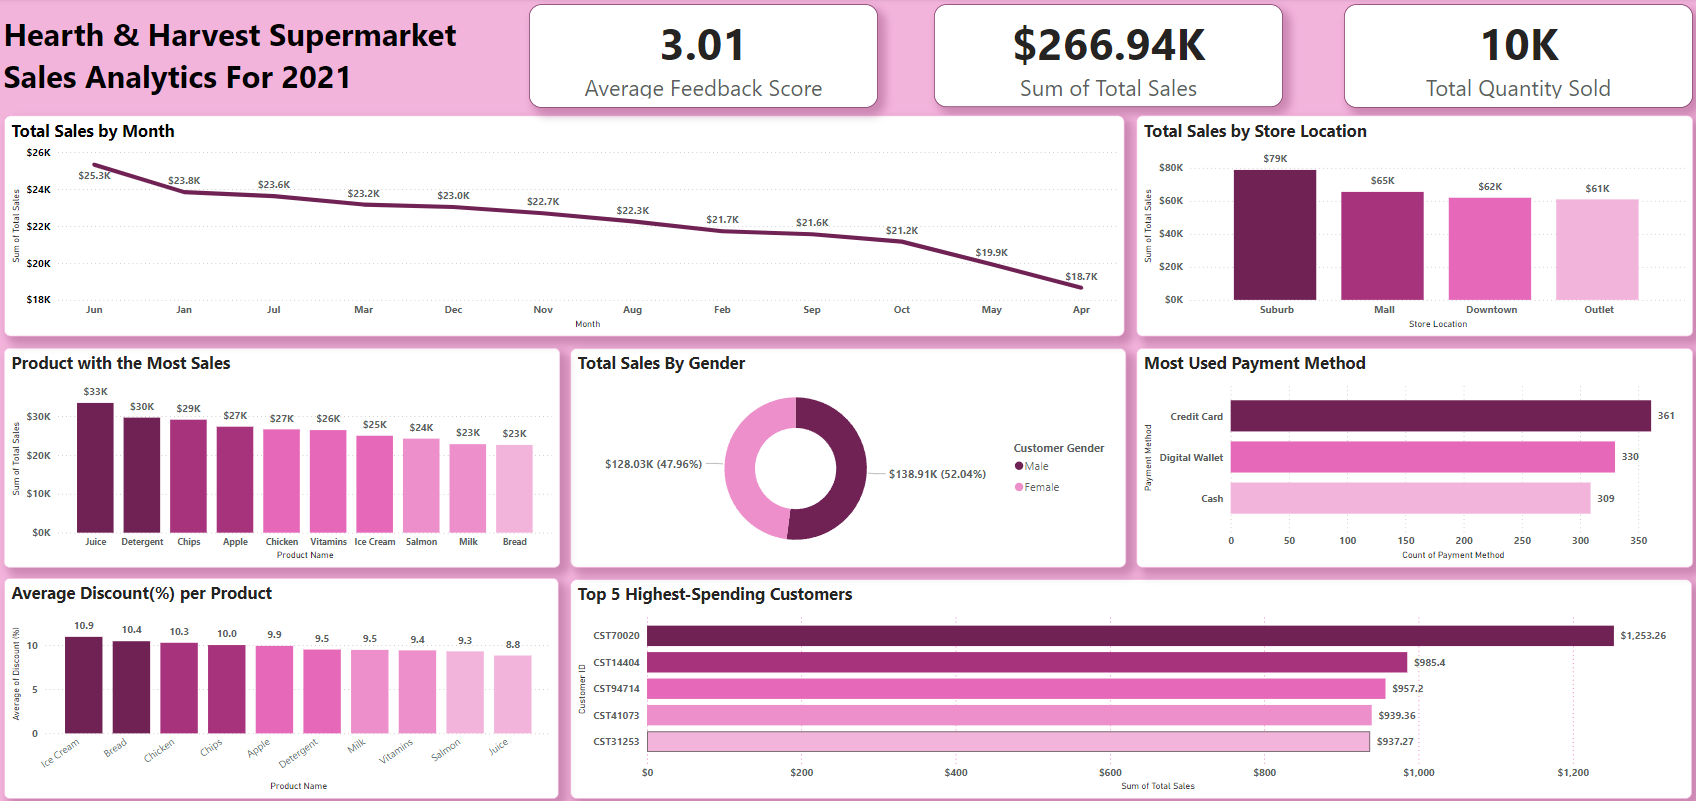

The dashboard page shown, as its layout file describes it:
{"tool":"powerbi","page":{"name":"Page 1","canvas":[2050,975],"ordinal":0},"visuals":[{"type":"card","fields":{"Values":["Sum(supermarket_sales_performance.Total Sales)"]},"box":[1127.6,7.5,420.6,123.6],"z":0},{"type":"clusteredBarChart","title":"Top 5 Highest-Spending Customers","fields":{"Category":["supermarket_sales_performance.Customer ID"],"Y":["Sum(supermarket_sales_performance.Total Sales)"]},"box":[688.9,700.4,1353.2,264.7],"z":1000},{"type":"donutChart","title":"Total Sales By Gender","fields":{"Category":["supermarket_sales_performance.Customer Gender"],"Y":["Sum(supermarket_sales_performance.Total Sales)"]},"box":[688.9,422.6,670,264.7],"z":2000},{"type":"columnChart","title":"Product with the Most Sales","fields":{"Category":["supermarket_sales_performance.Product Name"],"Y":["Sum(supermarket_sales_performance.Total Sales)"]},"box":[6.6,422.6,670,264.7],"z":3000},{"type":"lineChart","title":" Total Sales by Month","fields":{"Category":["supermarket_sales_performance.Month"],"Y":["Sum(supermarket_sales_performance.Total Sales)"]},"box":[6.6,141.4,1351.5,266.4],"z":4000},{"type":"card","fields":{"Values":["Sum(supermarket_sales_performance.Quantity Sold)"]},"box":[1622,7.5,420.6,125.1],"z":5000},{"type":"columnChart","title":"Total Sales by Store Location","fields":{"Category":["supermarket_sales_performance.Store Location"],"Y":["Sum(supermarket_sales_performance.Total Sales)"]},"box":[1371.3,141.4,670.8,266.4],"z":6000},{"type":"clusteredColumnChart","title":"Average Discount(%) per Product","fields":{"Y":["Avg(supermarket_sales_performance.Discount (%))"],"Category":["supermarket_sales_performance.Product Name"]},"box":[6.6,698.8,669.2,266.4],"z":7000},{"type":"clusteredBarChart","title":"Most Used Payment Method ","fields":{"Category":["supermarket_sales_performance.Payment Method"],"Y":["CountNonNull(supermarket_sales_performance.Payment Method)"]},"box":[1371.3,422.6,670.8,264.7],"z":8000},{"type":"card","fields":{"Values":["Avg(supermarket_sales_performance.Feedback Score)"]},"box":[639.1,7.5,420.6,125.1],"z":9000},{"type":"textbox","box":[0,13.6,586.4,119.1],"z":10000}]}

Visuals, with their boxes in screenshot pixels (x1, y1, x2, y2), scaled from the page's 2050x975 canvas onto the 1696x801 screenshot:
card - Sum(supermarket_sales_performance.Total Sales): box=[933, 6, 1281, 108]
"Top 5 Highest-Spending Customers" clusteredBarChart: box=[570, 575, 1689, 793]
"Total Sales By Gender" donutChart: box=[570, 347, 1124, 565]
"Product with the Most Sales" columnChart: box=[5, 347, 560, 565]
" Total Sales by Month" lineChart: box=[5, 116, 1124, 335]
card - Sum(supermarket_sales_performance.Quantity Sold): box=[1342, 6, 1690, 109]
"Total Sales by Store Location" columnChart: box=[1134, 116, 1689, 335]
"Average Discount(%) per Product" clusteredColumnChart: box=[5, 574, 559, 793]
"Most Used Payment Method " clusteredBarChart: box=[1134, 347, 1689, 565]
card - Avg(supermarket_sales_performance.Feedback Score): box=[529, 6, 877, 109]
textbox: box=[0, 11, 485, 109]
